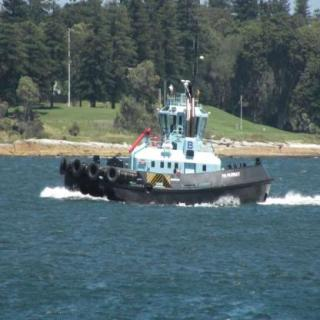Tug Boat: (44, 65, 270, 200)
